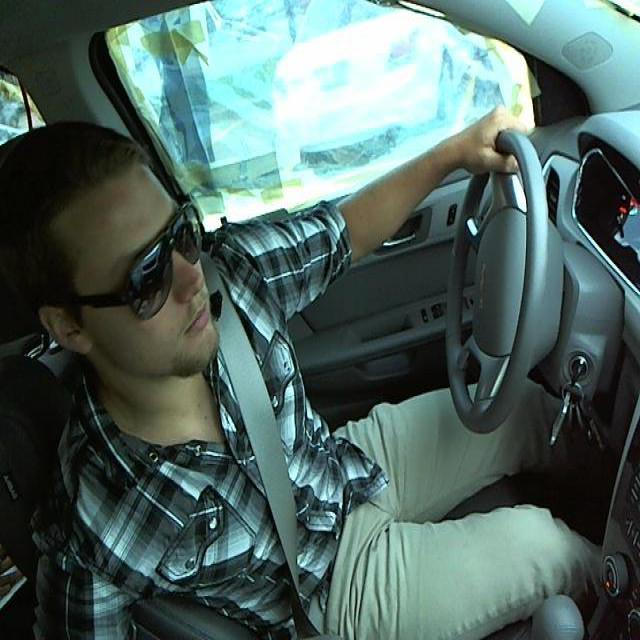seatbelt: (210, 299, 327, 637)
